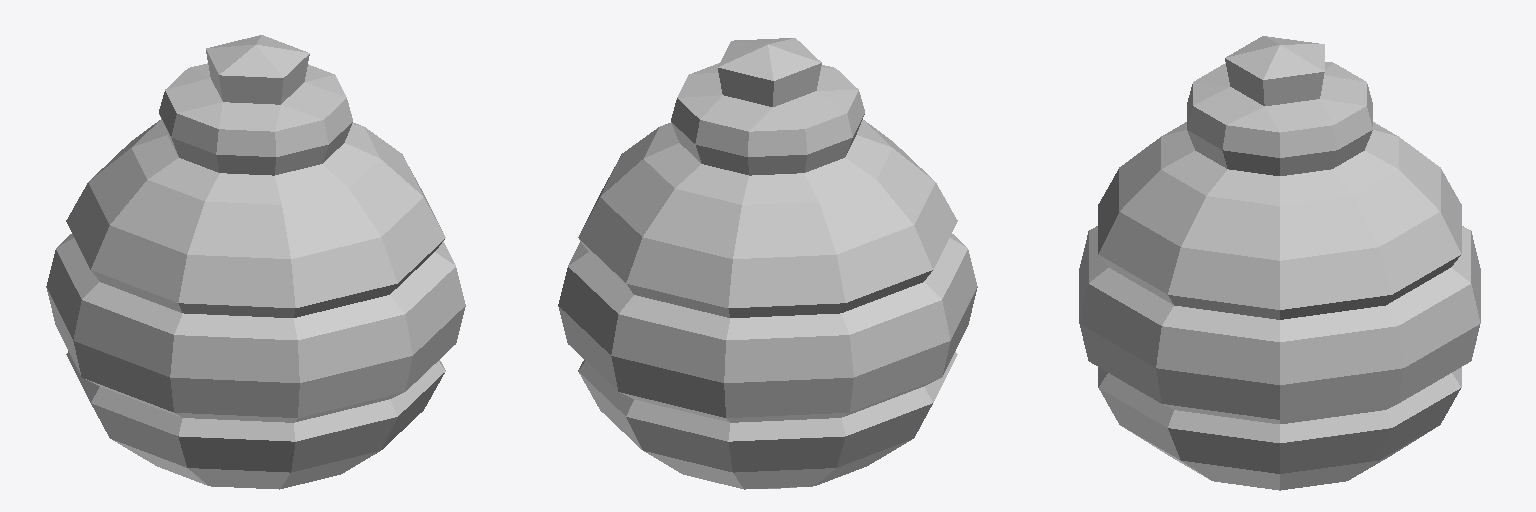
The model's file is smokebomb.obj.
3 views of the same model, side by side, from view 1: azimuth 30°, elevation 25°; view 2: azimuth 150°, elevation 25°; view 3: azimuth 270°, elevation 25° (orthographic).
Parts seen in each view (by area): view 1: smokebomb; view 2: smokebomb; view 3: smokebomb.
Boxes of the visible parts, x1=… form: smokebomb: x1=46, y1=35, x2=465, y2=489; smokebomb: x1=558, y1=38, x2=977, y2=489; smokebomb: x1=1079, y1=36, x2=1480, y2=490.
Bounding box in the file's own units: 0.3826 × 0.4231 × 0.3639.